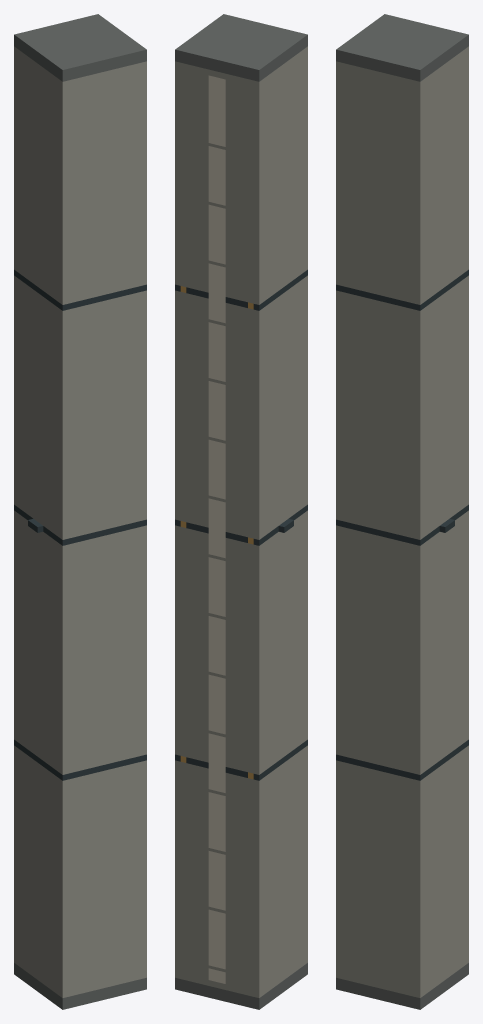
3 views of the same model, side by side, from view 1: azimuth 30°, elevation 25°; view 2: azimuth 150°, elevation 25°; view 3: azimuth 330°, elevation 25° (orthographic).
Parts seen in each view (by area): view 1: 既有高架路轨墩柱显示件; view 2: 既有高架路轨墩柱显示件; view 3: 既有高架路轨墩柱显示件.
Part boxes in pixels (x1,y1,x2,y2): 既有高架路轨墩柱显示件: [14, 14, 146, 1009]; 既有高架路轨墩柱显示件: [175, 14, 307, 1009]; 既有高架路轨墩柱显示件: [336, 14, 468, 1009].
Size of the model in its own units: 3.4 by 32 by 3.
Materials: 5 (5 with a texture image).
